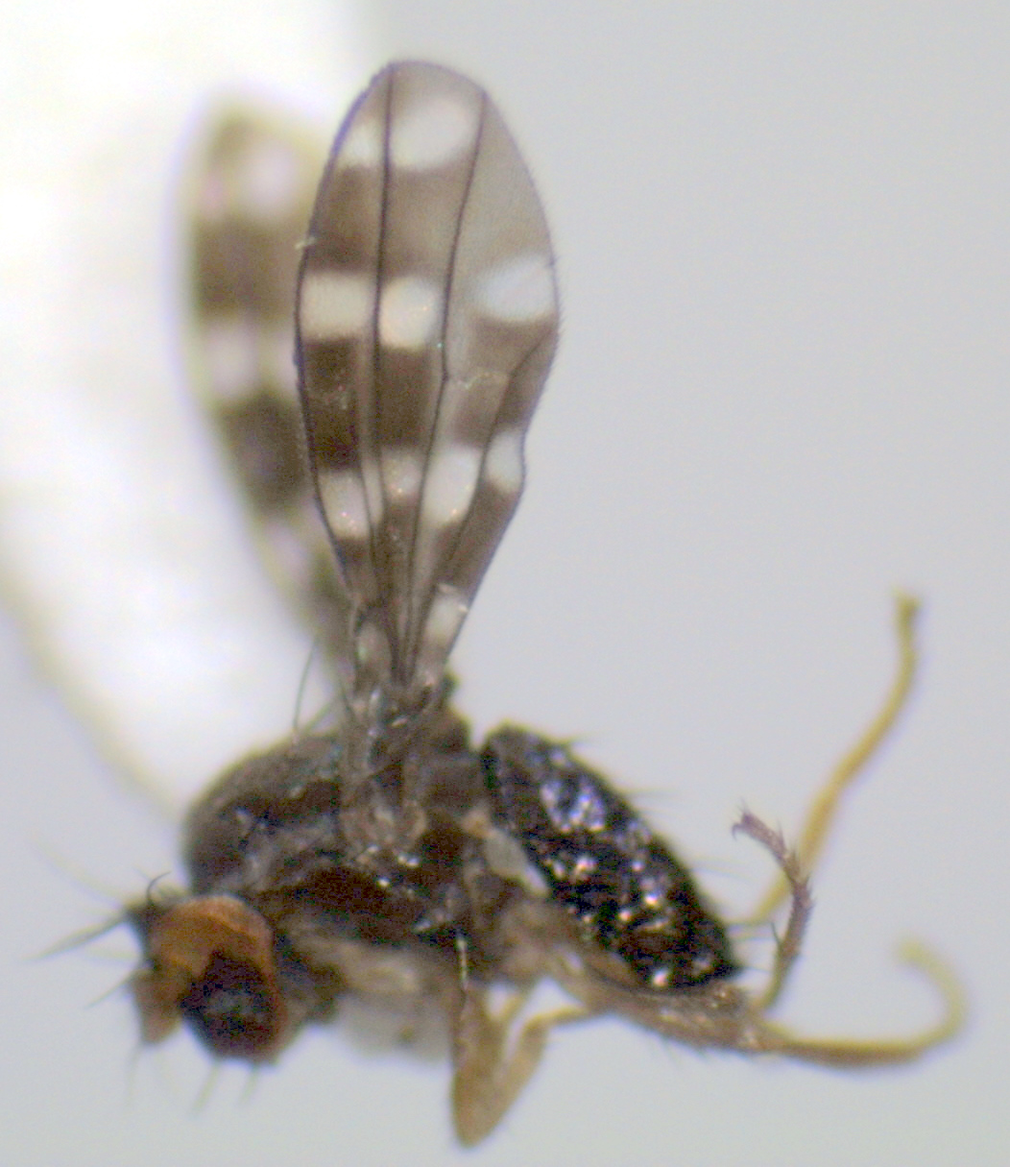Ephydridae: (31, 61, 1010, 1139)
